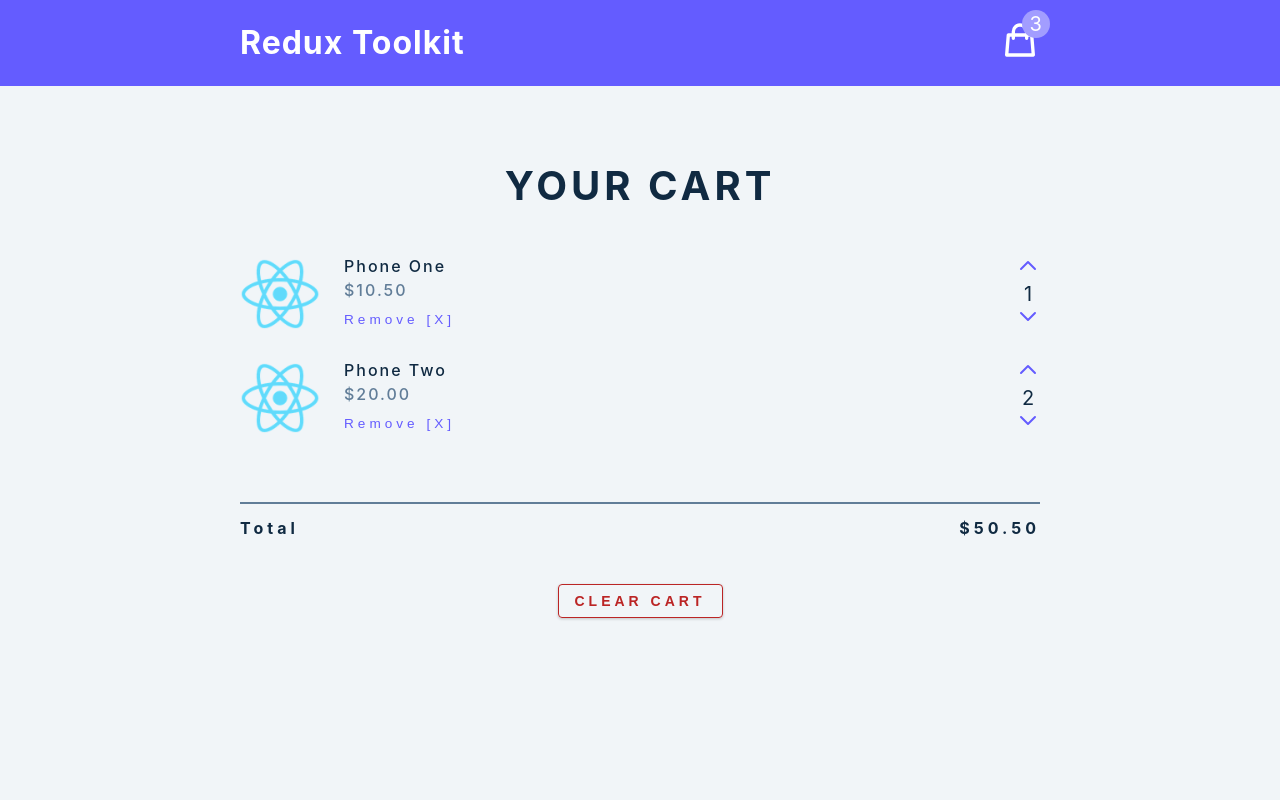
Test: cart behavior after the build-tool migration › cancels or confirms clearing the cart
Expected: the heading "Phone One" is shown, [344, 256, 446, 276]
What coordinates should you click on to do the following:
click the button "Clear cart"
I would click on:
 (640, 601)
Its box is [558, 584, 722, 618].
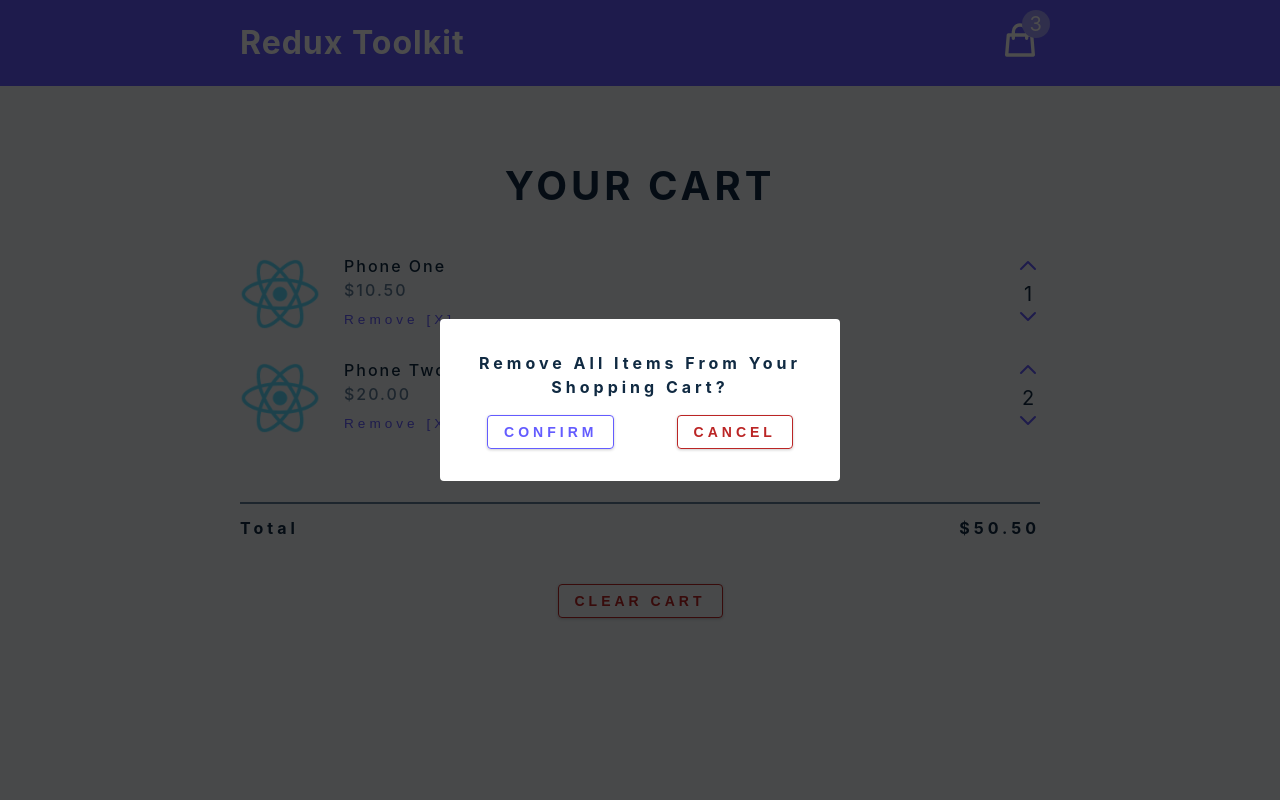
What coordinates should you click on to do the following:
click the button "Cancel"
I would click on:
 (735, 432)
Its box is [677, 415, 793, 449].
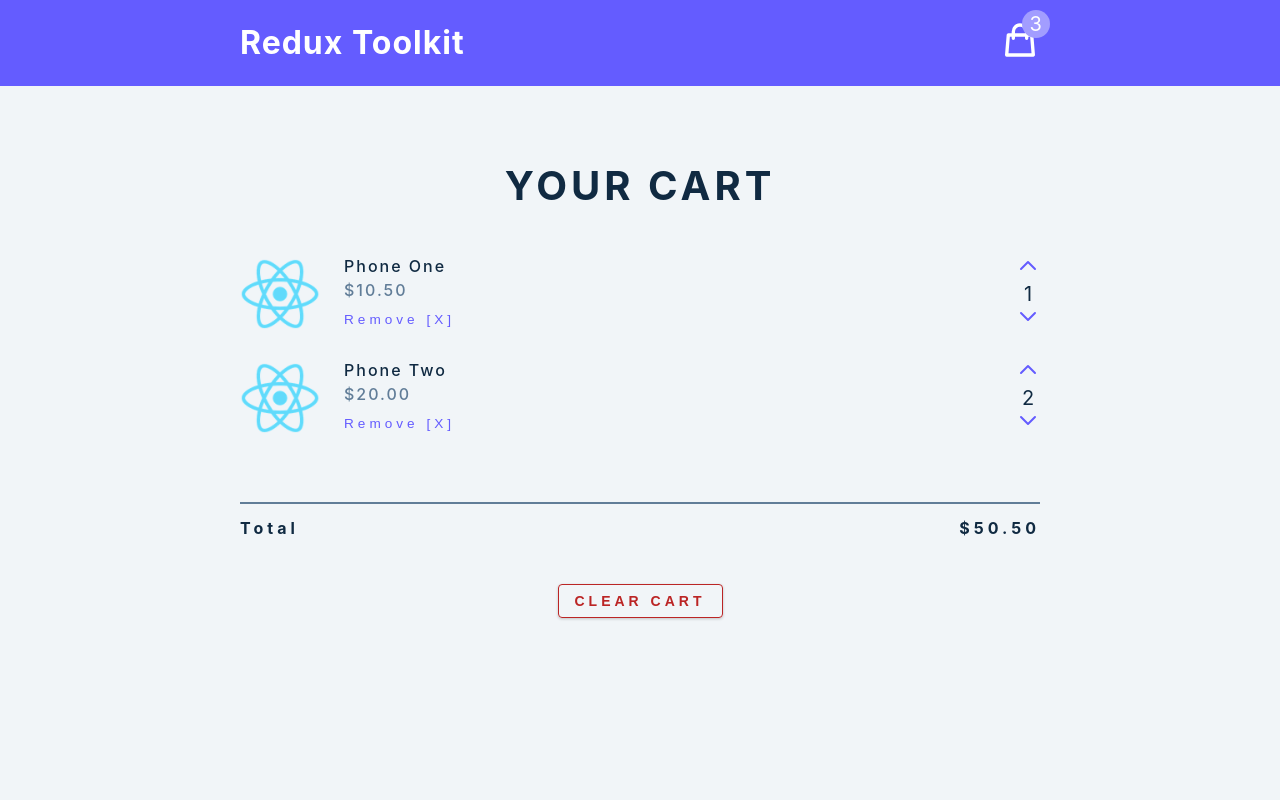
What coordinates should you click on to do the following:
click the button "Clear cart"
I would click on:
 (640, 601)
Its box is [558, 584, 722, 618].
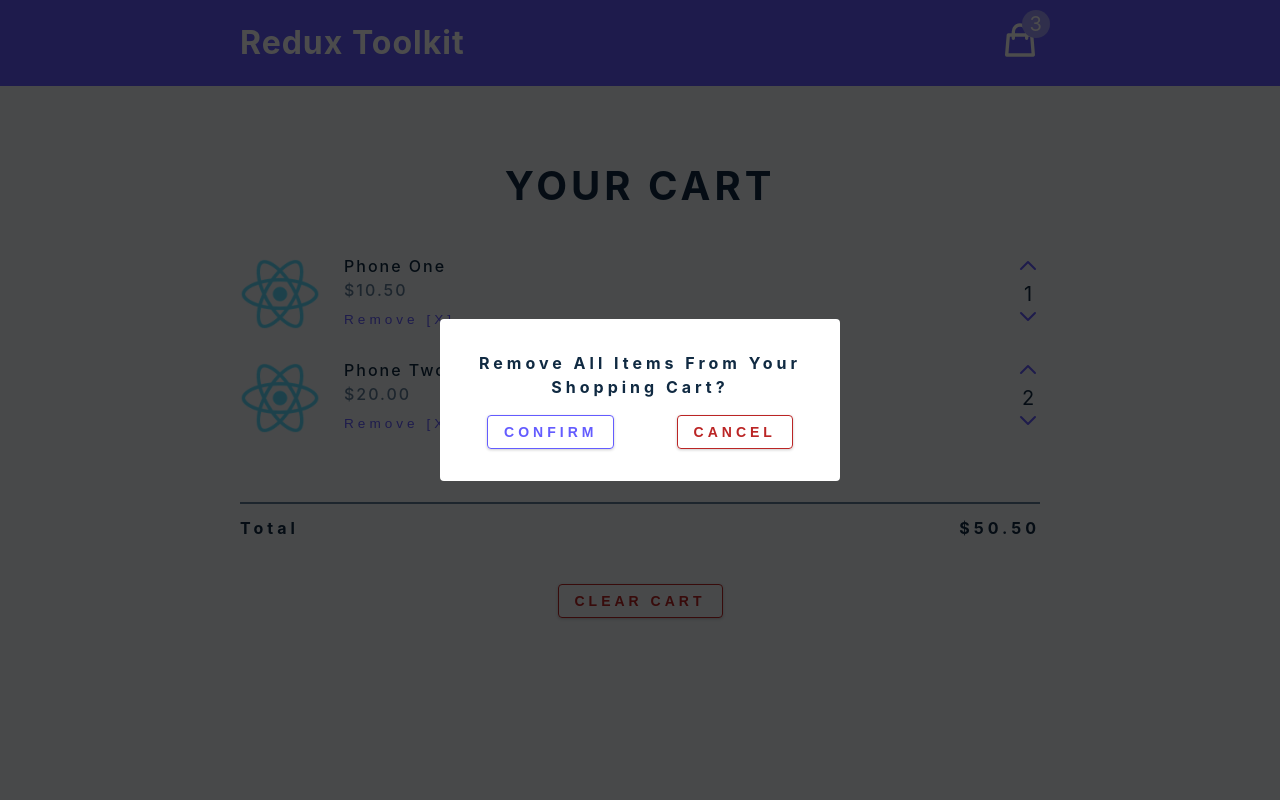
What coordinates should you click on to do the following:
click the button "Confirm"
I would click on:
 (551, 432)
Its box is [487, 415, 614, 449].
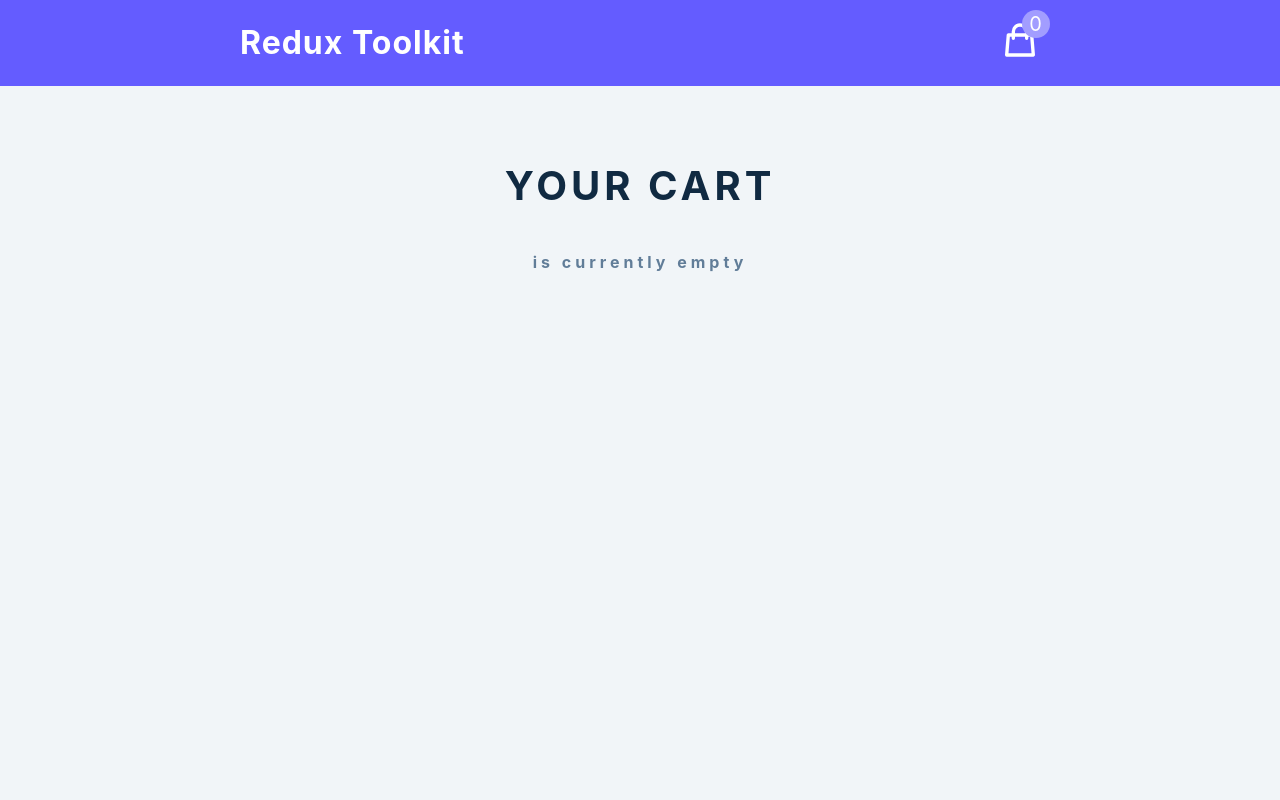
Expected: the heading "is currently empty" is shown, [533, 252, 747, 272]
